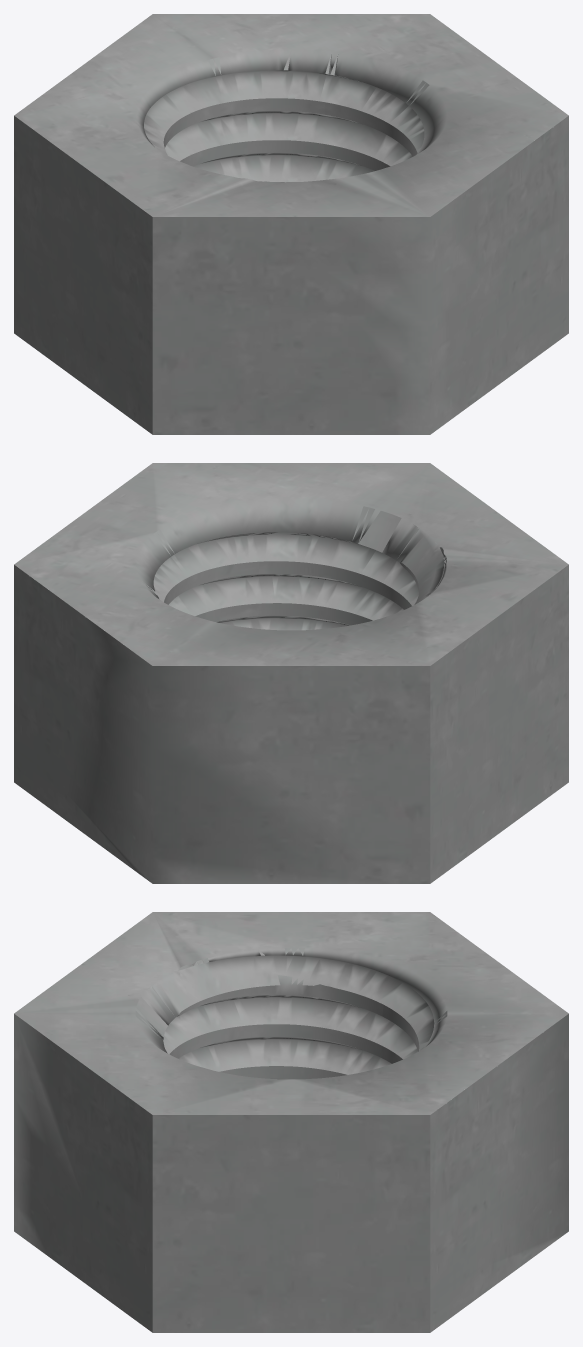
Rendered from factory_nut_m8_loose.glb.
The picture shows the model from 3 angles, top to bottom: view 1: azimuth 30°, elevation 25°; view 2: azimuth 150°, elevation 25°; view 3: azimuth 270°, elevation 25°; orthographic projection.
Visible parts, largest first — view 1: part0; view 2: part0; view 3: part0.
Boxes of the visible parts, x1,y1,x2,y2 form: part0: (14, 14, 568, 434); part0: (14, 463, 568, 883); part0: (14, 912, 568, 1332).
Bounding box in the file's own units: 0.013 × 0.0065 × 0.015.
1 material, 1 textured.
